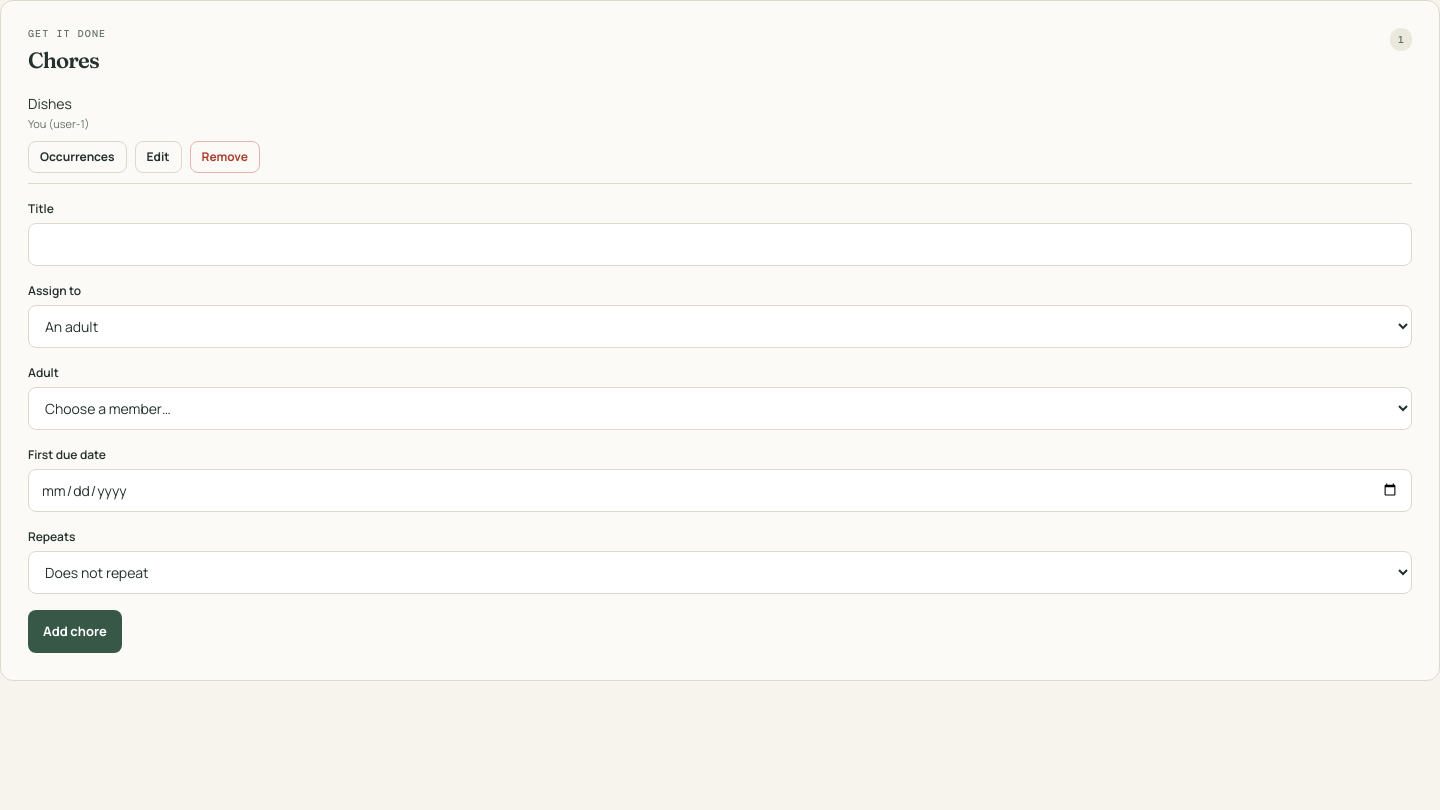
Test case: ChoresPanel › skips a pending occurrence and refreshes the occurrence list
Click the button "Occurrences": (77, 156) 28,140 -> 126,172
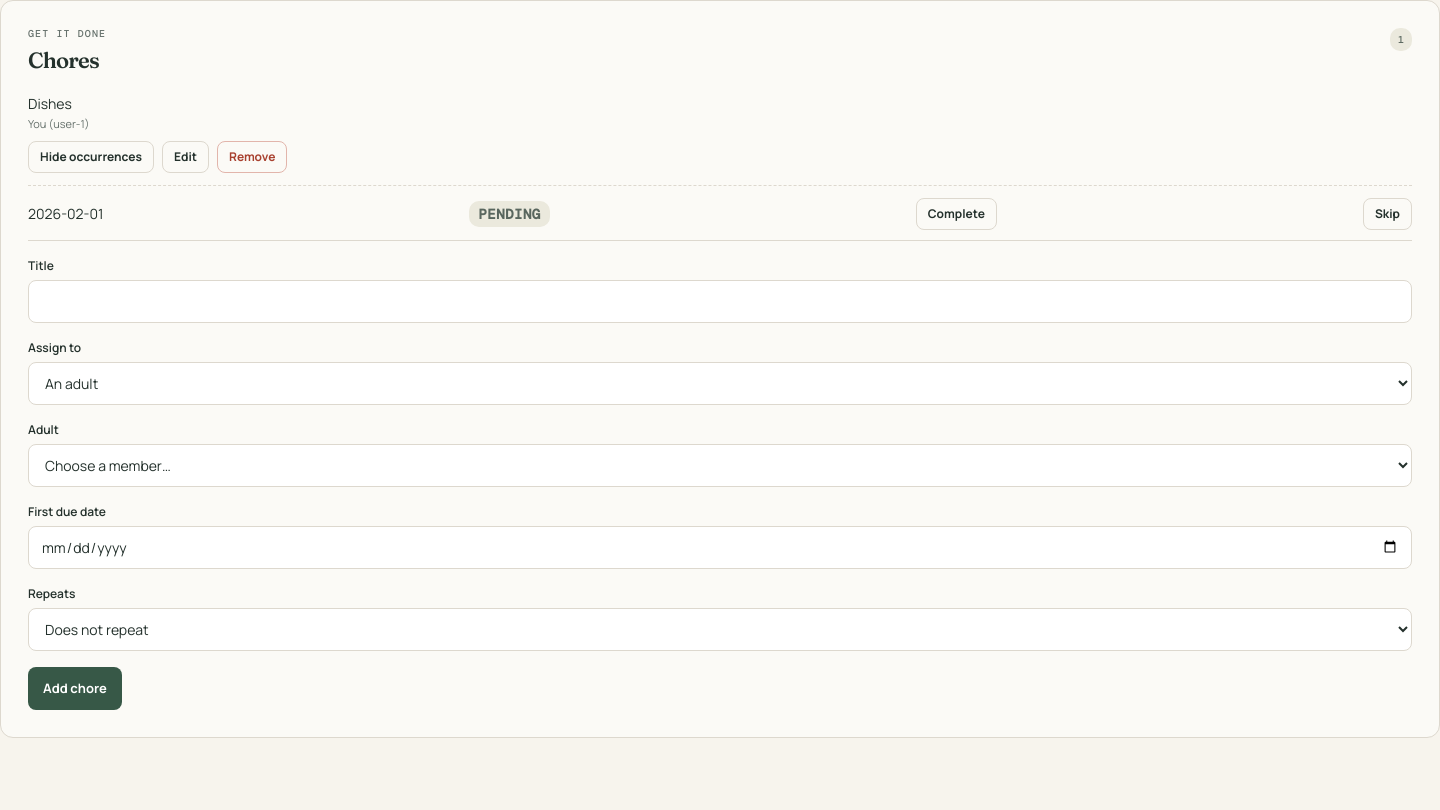
Expected: the text "2026-02-01" is shown, 28,203 -> 104,224
Click the button "Skip": (1387, 214) 1363,198 -> 1412,230
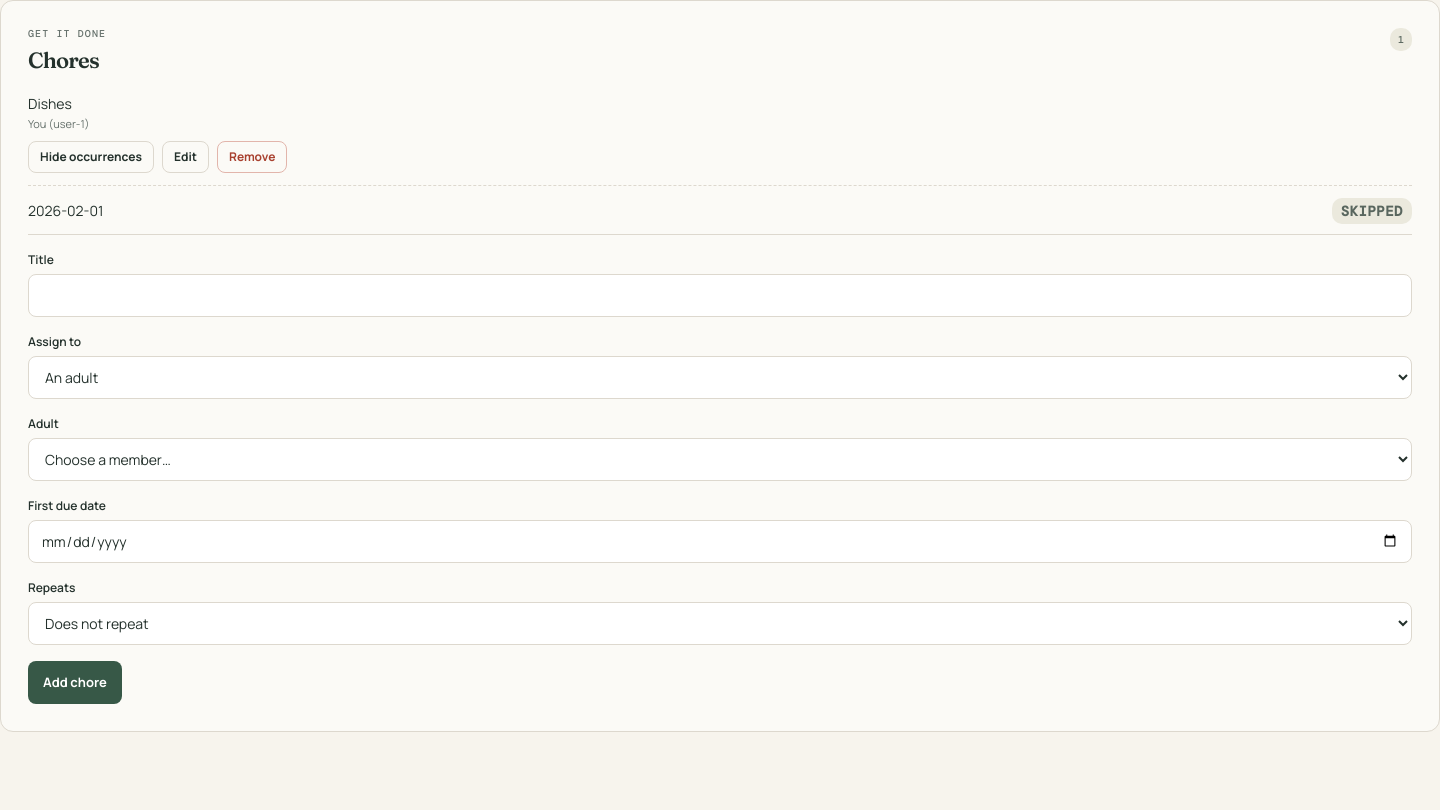
Expected: the text "skipped" is shown, 1332,198 -> 1412,224
